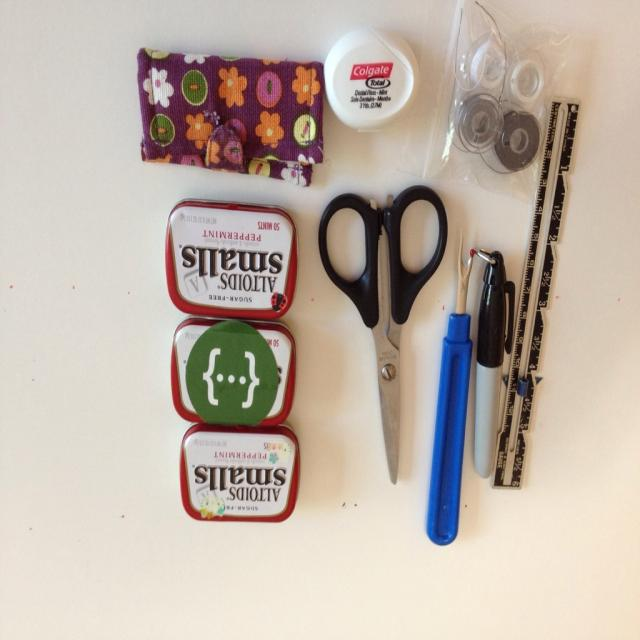scissors: (317, 184, 447, 484)
